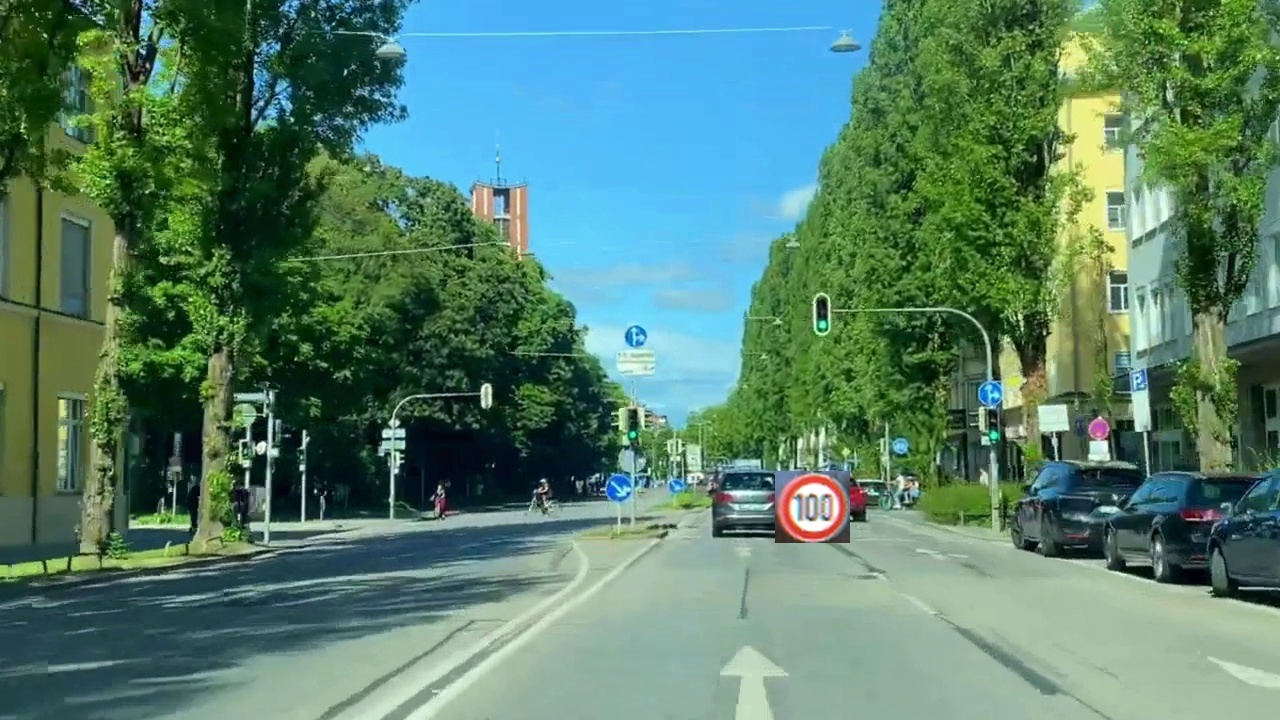Speed 100: (775, 471, 850, 543)
